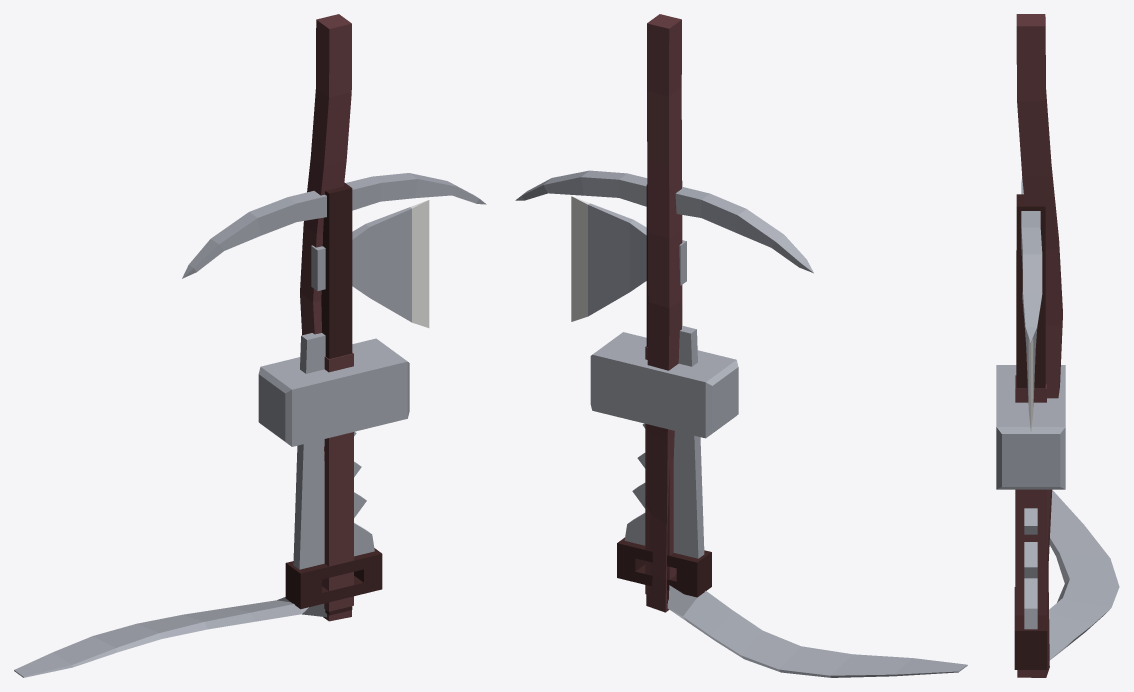
The model's file is Tools.fbx.
3 views of the same model, side by side, from view 1: azimuth 30°, elevation 25°; view 2: azimuth 150°, elevation 25°; view 3: azimuth 270°, elevation 25° (orthographic). The views are drawn at different scales.
Visible parts, largest first — view 1: Hammer, Scythe, Axe, Saw, Pickaxe; view 2: Scythe, Hammer, Saw, Axe, Pickaxe; view 3: Scythe, Hammer, Saw, Pickaxe, Axe.
Boxes of the visible parts, x1,y1,x2,y2 form: Hammer: [258, 338, 409, 611]; Scythe: [14, 14, 351, 677]; Axe: [311, 200, 429, 615]; Saw: [285, 333, 382, 609]; Pickaxe: [182, 173, 486, 278]; Scythe: [646, 14, 967, 677]; Hammer: [590, 332, 738, 599]; Saw: [617, 325, 711, 597]; Axe: [571, 196, 686, 603]; Pickaxe: [515, 170, 813, 273]; Scythe: [1016, 14, 1119, 677]; Hammer: [996, 365, 1065, 615]; Saw: [1014, 508, 1047, 669]; Pickaxe: [1016, 176, 1045, 342]; Axe: [1016, 250, 1045, 431].
Size of the model in its own units: 102 by 126 by 21.35.
